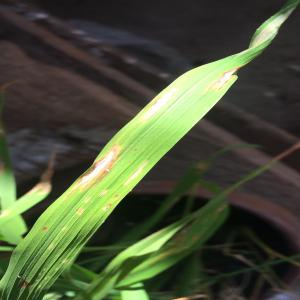Rice_Blast: (56, 133, 123, 191), (194, 59, 248, 99)
